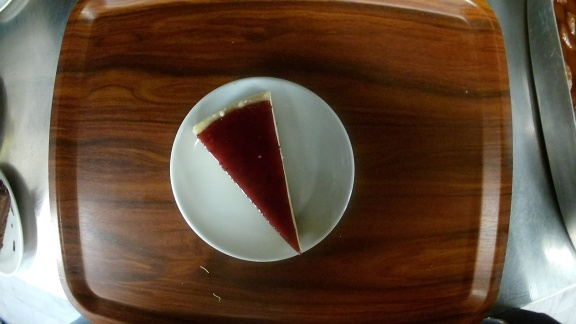frambuazlipasta: (170, 76, 356, 263)
